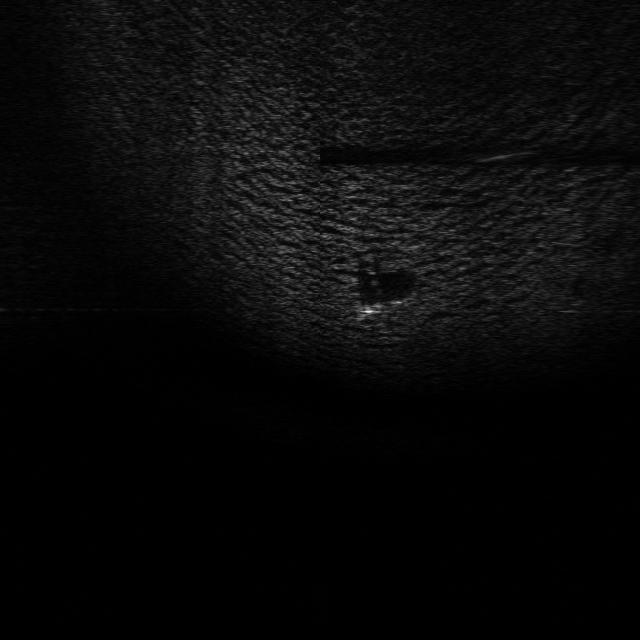plane: (354, 298, 408, 322)
